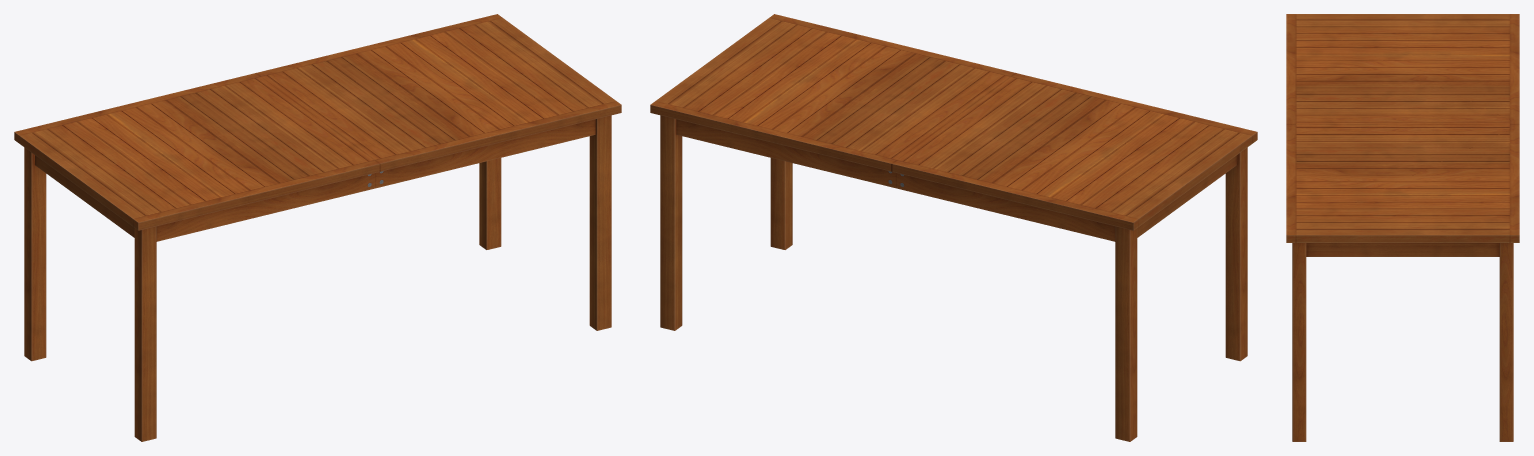
File: GardenFurnitureSet05_1.FBX
3 views of the same model, side by side, from view 1: azimuth 30°, elevation 25°; view 2: azimuth 150°, elevation 25°; view 3: azimuth 270°, elevation 25° (orthographic). The views are drawn at different scales.
Visible parts, largest first — view 1: GardenFurnitureSet05_1; view 2: GardenFurnitureSet05_1; view 3: GardenFurnitureSet05_1.
Part boxes in pixels (left/top/right/bottom): GardenFurnitureSet05_1: left=14, top=14, right=621, bottom=441; GardenFurnitureSet05_1: left=650, top=14, right=1257, bottom=441; GardenFurnitureSet05_1: left=1286, top=14, right=1519, bottom=441.
Size of what is drawn, in the model's own units: 1.93 by 0.8499 by 0.8571.
